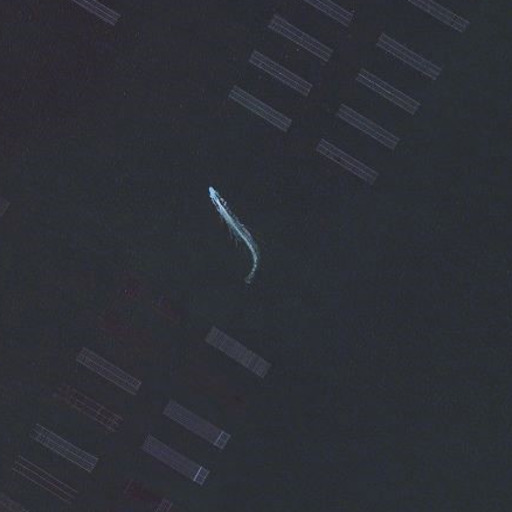ship: (205, 184, 221, 206)
